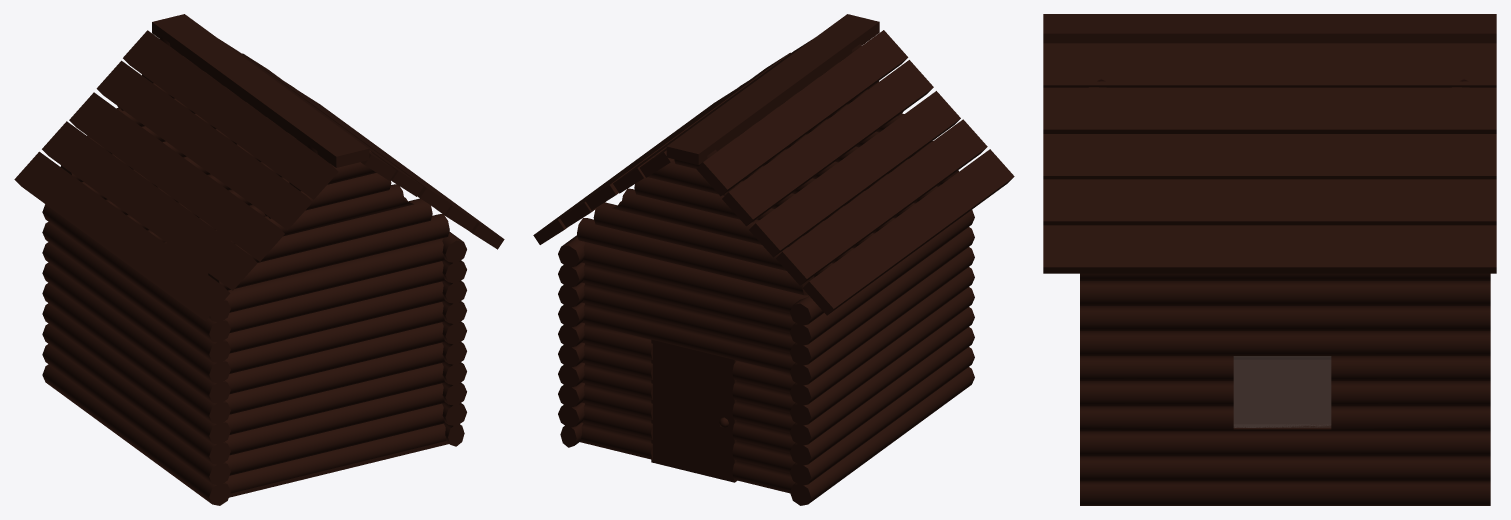
The model's file is cabane.FBX.
3 renders of one model, left to right at view 1: azimuth 30°, elevation 25°; view 2: azimuth 150°, elevation 25°; view 3: azimuth 270°, elevation 25°, orthographic. The views are drawn at different scales.
Visible parts, largest first — view 1: Box003, Cylinder027, Cylinder001, Cylinder066, Cylinder012, Box002, Cylinder040, Cylinder067; view 2: Box003, Cylinder040, Cylinder001, Cylinder067, Box016, Cylinder012, Cylinder027, Cylinder066; view 3: Box003, Cylinder012, Box015, Box002.
Boxes of the visible parts, x1,y1,x2,y2 form: Box003: [14, 14, 504, 320]; Cylinder027: [225, 238, 446, 493]; Cylinder001: [42, 204, 230, 505]; Cylinder066: [208, 144, 449, 290]; Cylinder012: [297, 139, 466, 446]; Box002: [229, 441, 448, 497]; Cylinder040: [82, 133, 295, 243]; Cylinder067: [60, 37, 286, 182]; Box003: [533, 14, 1014, 315]; Cylinder040: [580, 241, 808, 493]; Cylinder001: [790, 210, 974, 505]; Cylinder067: [577, 149, 814, 295]; Box016: [651, 339, 736, 482]; Cylinder012: [558, 144, 727, 447]; Cylinder027: [728, 139, 937, 277]; Cylinder066: [738, 43, 958, 186]; Box003: [1043, 14, 1496, 273]; Cylinder012: [1080, 273, 1490, 505]; Box015: [1234, 356, 1330, 427]; Box002: [1233, 359, 1331, 418].
Size of the model in its own units: 85.99 by 90.03 by 89.64.
